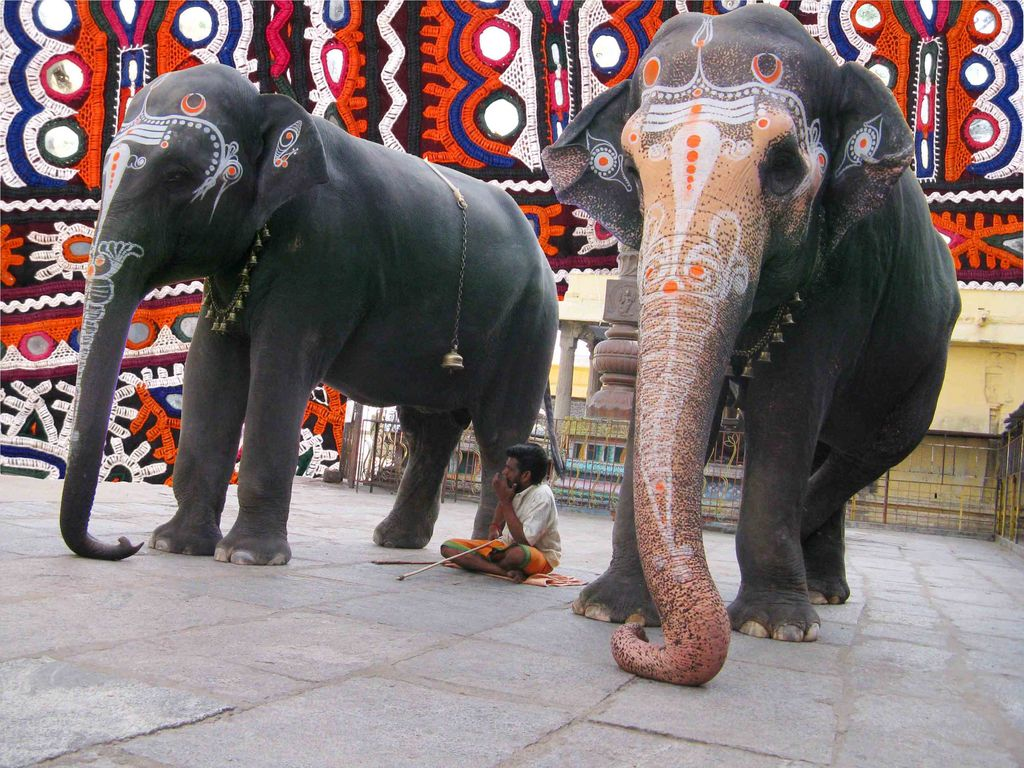Indian Elephant: (511, 6, 971, 705), (31, 47, 560, 643)
